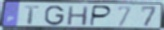7: (116, 5, 135, 28), (140, 5, 157, 28)
G: (44, 5, 65, 26)
H: (66, 6, 90, 27)
P: (89, 5, 113, 28)
T: (23, 5, 41, 25)
